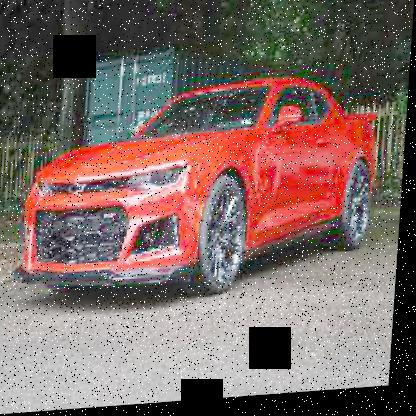not_emergency: (3, 54, 410, 327)
